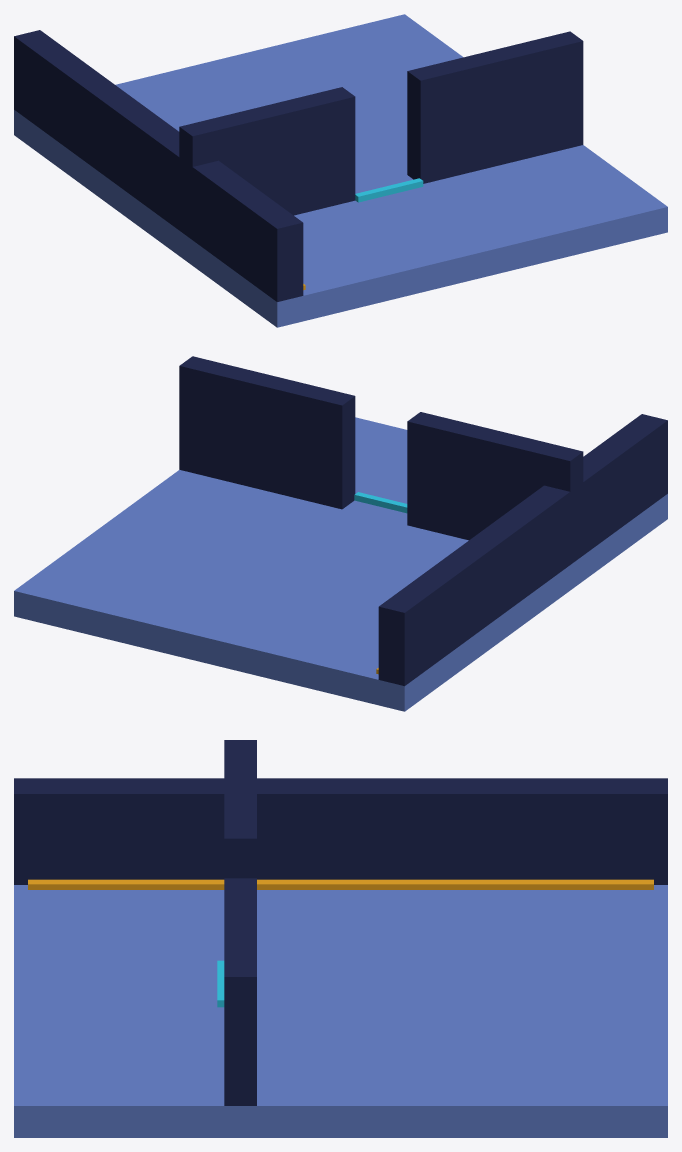
Rendered from discovery_gallery.obj.
The picture shows the model from 3 angles, top to bottom: view 1: azimuth 30°, elevation 25°; view 2: azimuth 150°, elevation 25°; view 3: azimuth 270°, elevation 25°; orthographic projection. The views are drawn at different scales.
Visible parts, largest first — view 1: discovery_gallery; view 2: discovery_gallery; view 3: discovery_gallery.
Part boxes in pixels (x1,y1,x2,y2): discovery_gallery: (14,14,667,327); discovery_gallery: (14,356,667,711); discovery_gallery: (14,740,667,1137).
Size of the model in its own units: 12 by 3.8 by 14.
